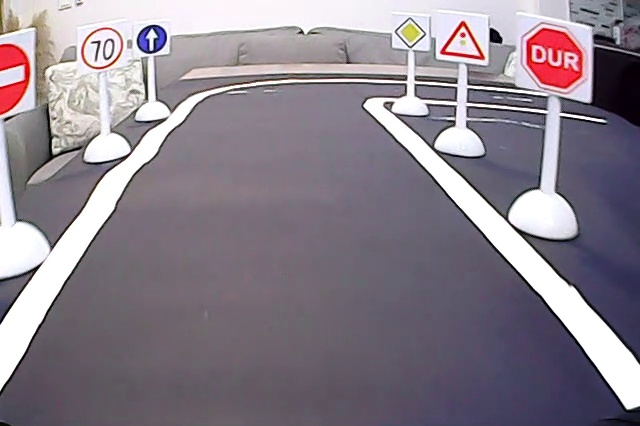red light: (440, 14, 486, 64)
speed limit 70: (81, 26, 124, 72)
stop sign: (520, 16, 590, 96)
